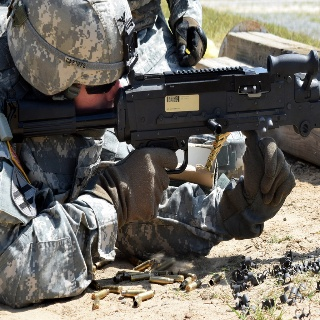rifle: (4, 48, 320, 178)
